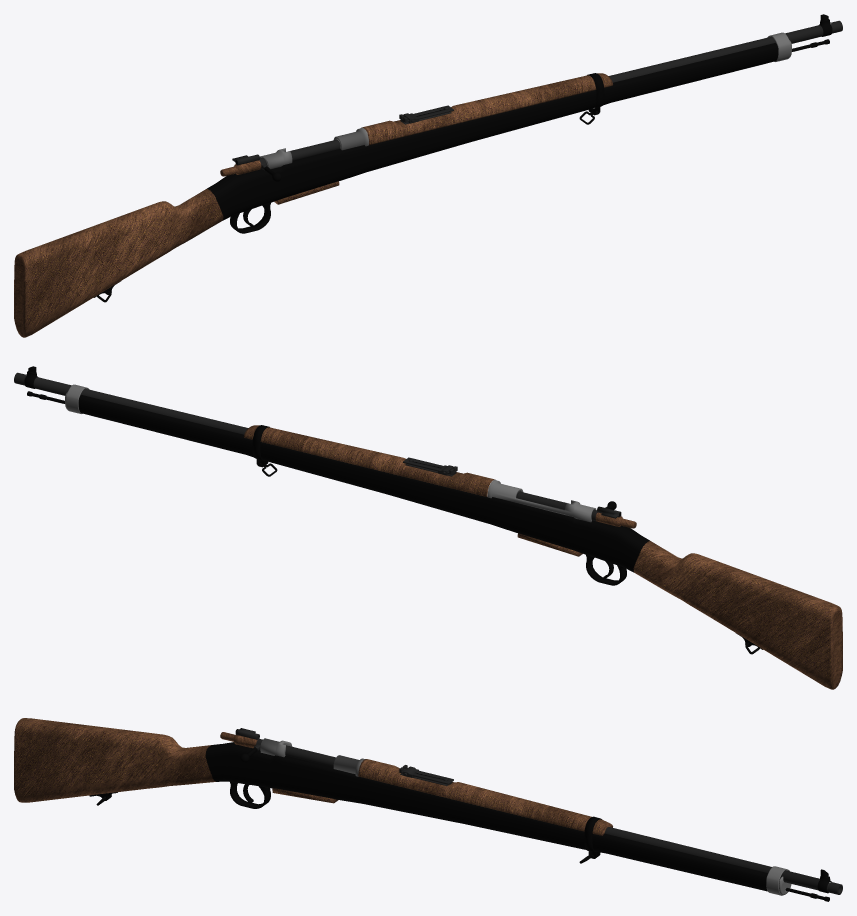
The picture shows the model from 3 angles, top to bottom: view 1: azimuth 30°, elevation 25°; view 2: azimuth 150°, elevation 25°; view 3: azimuth 330°, elevation 25°; orthographic projection.
Visible parts, largest first — view 1: Grip & Stock; view 2: Grip & Stock; view 3: Grip & Stock.
Part boxes in pixels (x1,y1,x2,y2): Grip & Stock: (14, 14, 842, 337); Grip & Stock: (14, 366, 842, 689); Grip & Stock: (14, 718, 842, 901).
Size of the model in its own units: 52.93 by 7.85 by 2.76.
1 material, 1 textured.
